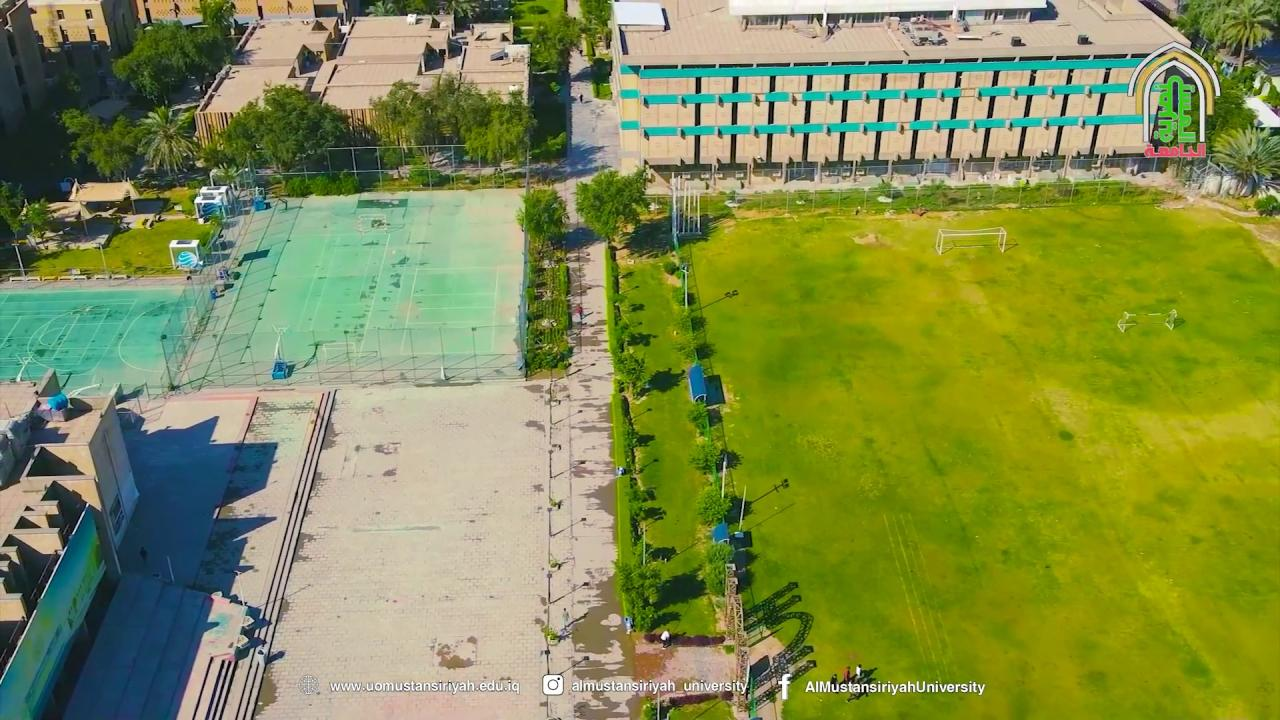person: (659, 629, 670, 648), (854, 663, 863, 681), (842, 666, 851, 683), (139, 546, 147, 564), (830, 673, 837, 691)
tree: (368, 69, 537, 184), (208, 80, 348, 188), (514, 185, 571, 380), (110, 17, 231, 106), (573, 165, 648, 296), (459, 86, 535, 179), (198, 99, 266, 188), (423, 70, 484, 169), (59, 107, 138, 182), (368, 78, 429, 170), (0, 179, 53, 281), (1209, 125, 1279, 197), (131, 104, 199, 177), (1215, 0, 1278, 72), (518, 10, 584, 75), (364, 0, 480, 35), (1204, 81, 1257, 155), (612, 557, 664, 632), (1172, 0, 1234, 53), (626, 483, 665, 565), (515, 185, 567, 243), (198, 136, 253, 189), (695, 540, 735, 597), (611, 345, 651, 399), (578, 0, 612, 53), (695, 483, 732, 527), (21, 196, 54, 245), (687, 437, 723, 481), (197, 0, 236, 39), (442, 0, 479, 36), (686, 397, 711, 439)
